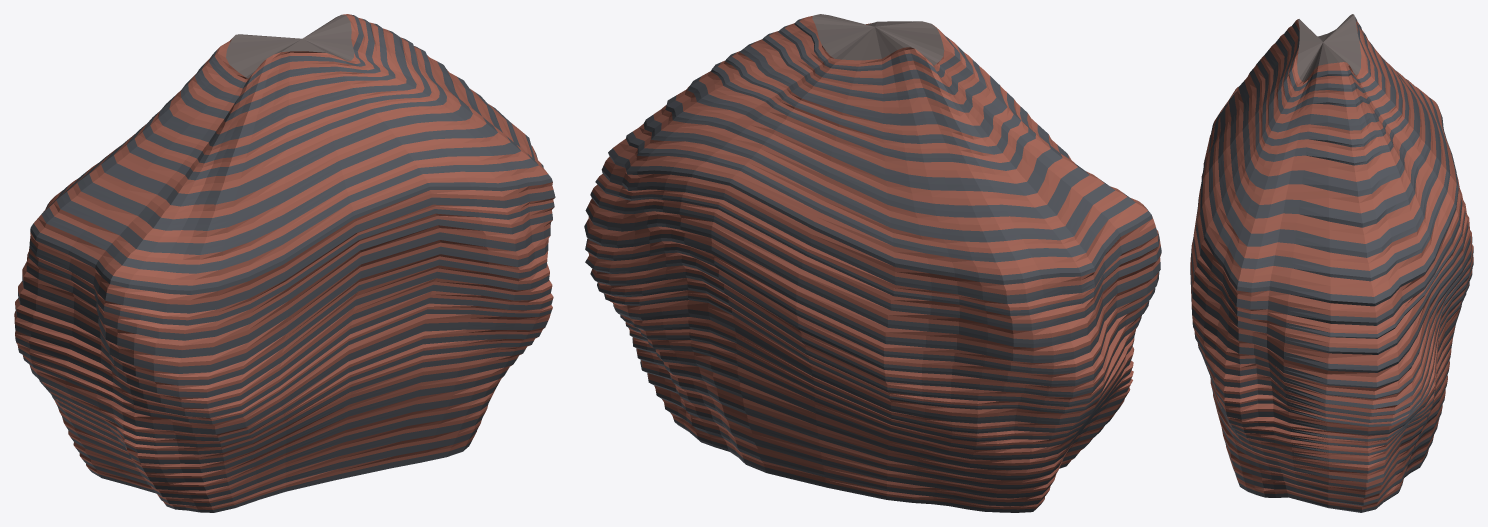
3 views of the same model, side by side, from view 1: azimuth 30°, elevation 25°; view 2: azimuth 150°, elevation 25°; view 3: azimuth 270°, elevation 25° (orthographic). The views are drawn at different scales.
Parts seen in each view (by area): view 1: one_solid_bif_specimen_with_unequal_folded_fine_laminae_and_; view 2: one_solid_bif_specimen_with_unequal_folded_fine_laminae_and_; view 3: one_solid_bif_specimen_with_unequal_folded_fine_laminae_and_.
Boxes of the visible parts, left/top/right/bottom form: one_solid_bif_specimen_with_unequal_folded_fine_laminae_and_: left=14, top=14, right=555, bottom=512; one_solid_bif_specimen_with_unequal_folded_fine_laminae_and_: left=584, top=14, right=1161, bottom=512; one_solid_bif_specimen_with_unequal_folded_fine_laminae_and_: left=1190, top=14, right=1473, bottom=512.
Size of the model in its own units: 0.862 by 0.672 by 0.4378.
